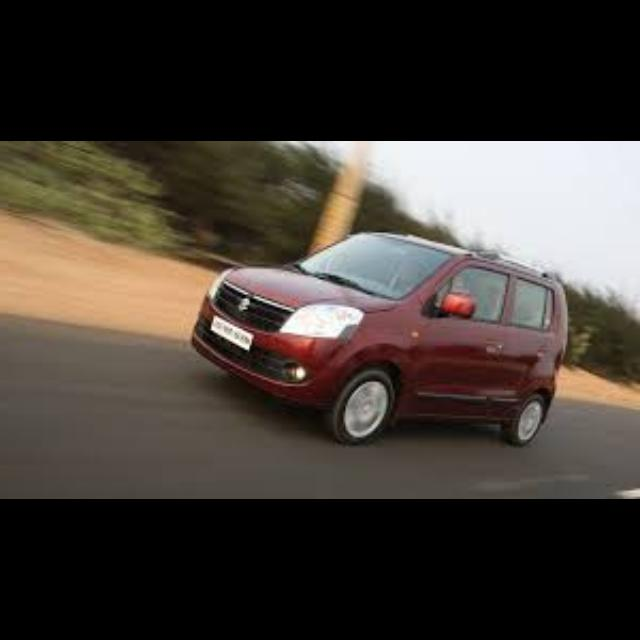vehicles: (194, 222, 576, 452)
